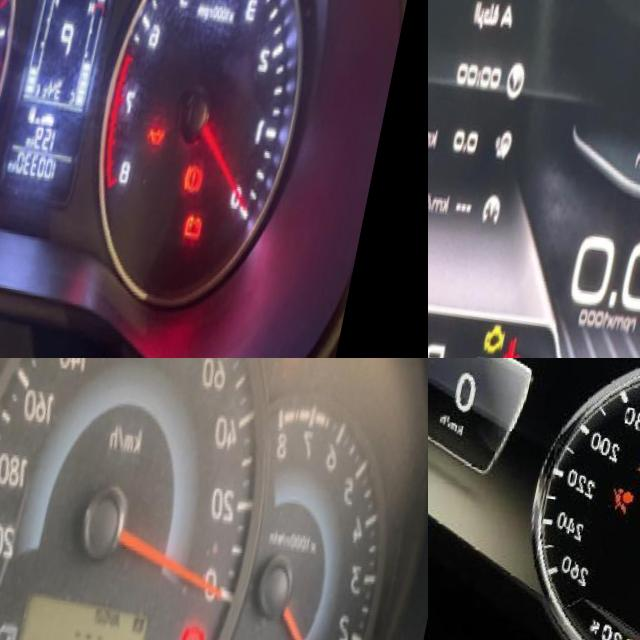High Engine Coolant Temperature: (521, 317, 548, 358)
